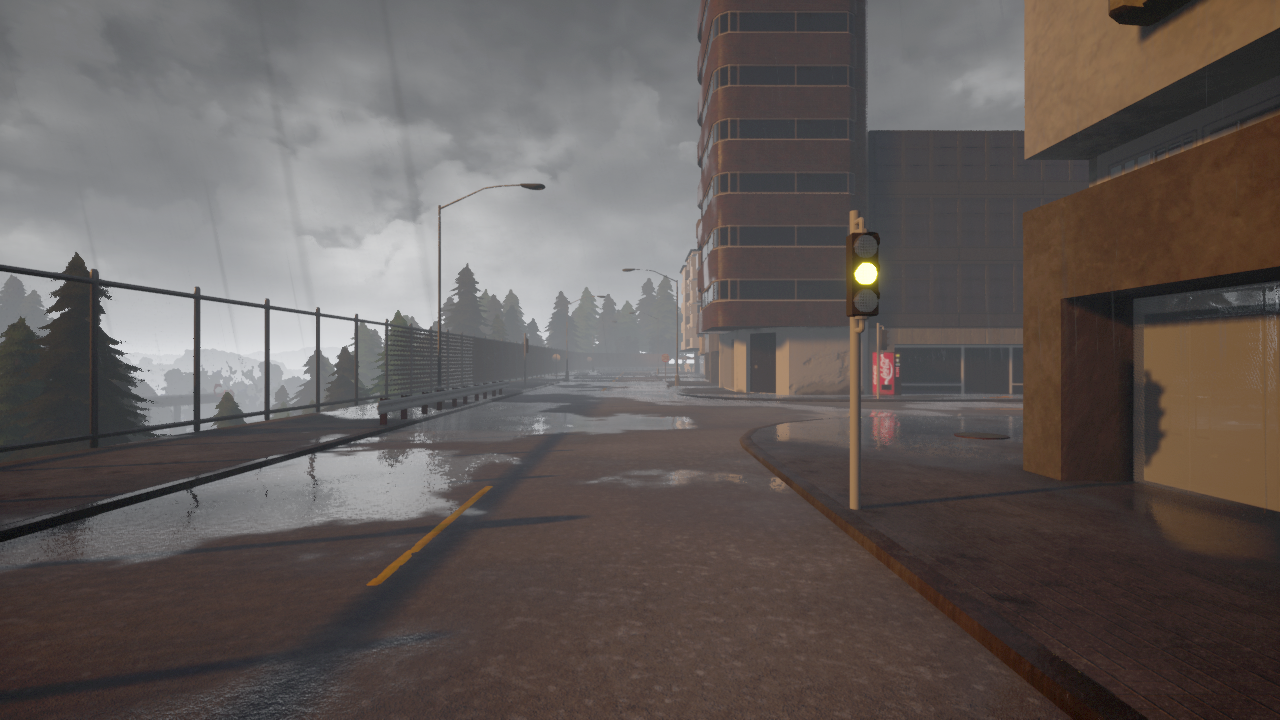yellow: (844, 234, 886, 314)
